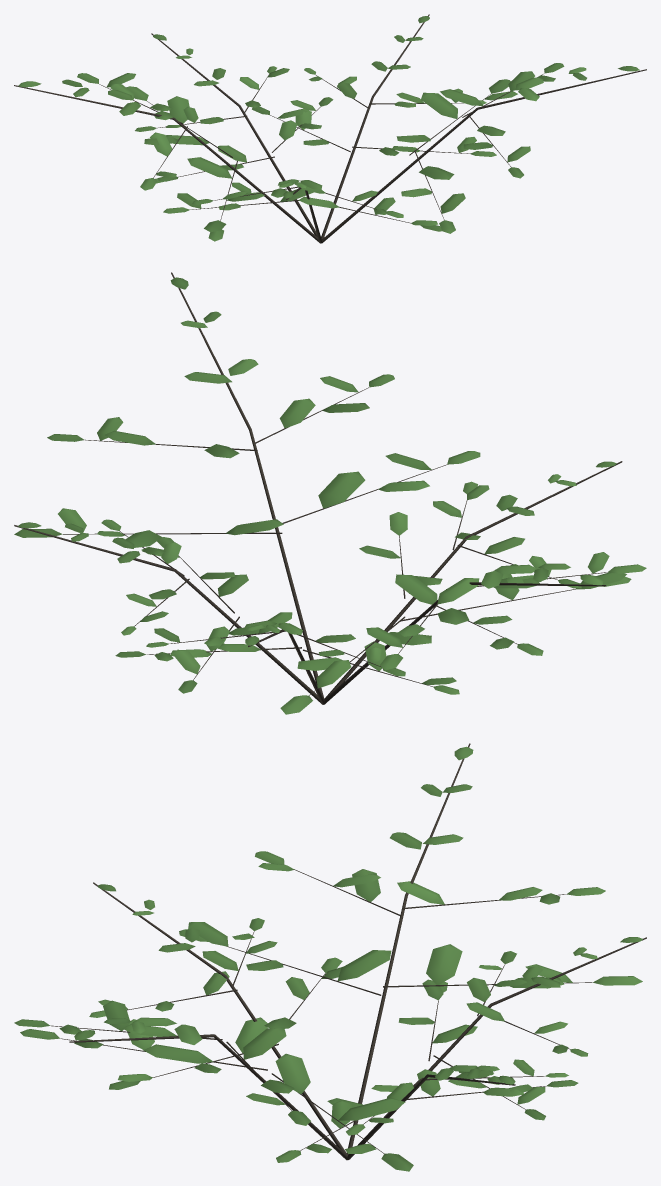
The model's file is oak_fern.glb.
3 views of the same model, one above another, from view 1: azimuth 30°, elevation 25°; view 2: azimuth 150°, elevation 25°; view 3: azimuth 270°, elevation 25° (orthographic). The views are drawn at different scales.
Visible parts, largest first — view 1: oak_fern; view 2: oak_fern; view 3: oak_fern.
Boxes of the visible parts, bbox=[...] form: oak_fern: bbox=[14, 14, 646, 243]; oak_fern: bbox=[14, 272, 646, 714]; oak_fern: bbox=[14, 743, 646, 1171].
Size of the model in its own units: 0.5504 by 0.2147 by 0.4692.
